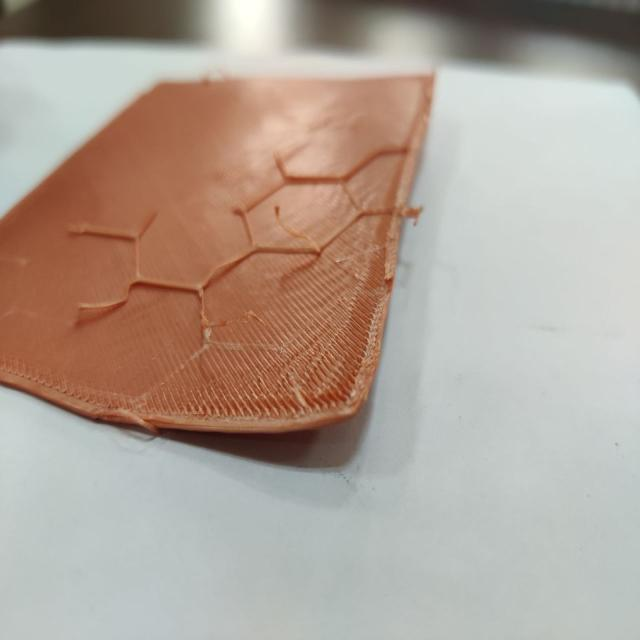Warping: (101, 371, 394, 490)
